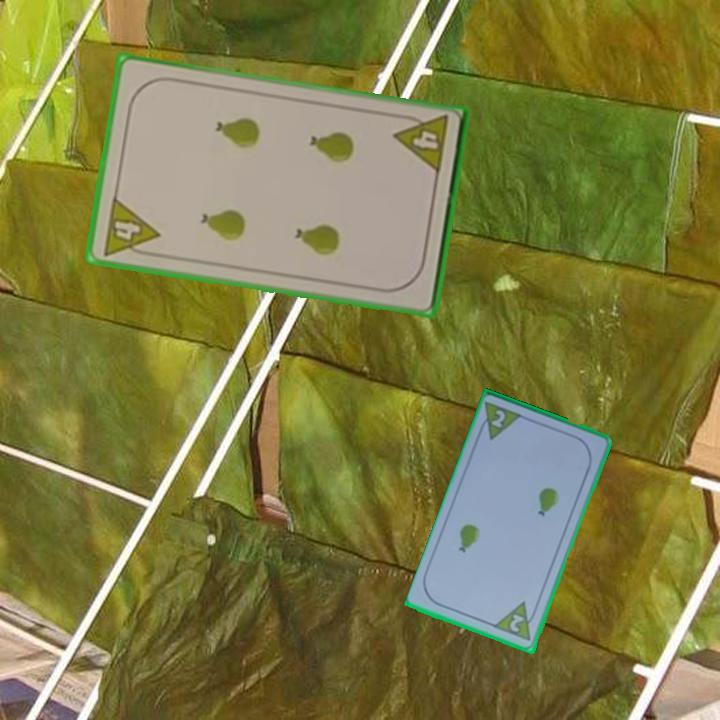2p: (474, 399, 526, 443), (506, 611, 527, 636)
4p: (99, 193, 162, 261), (391, 111, 452, 177)
